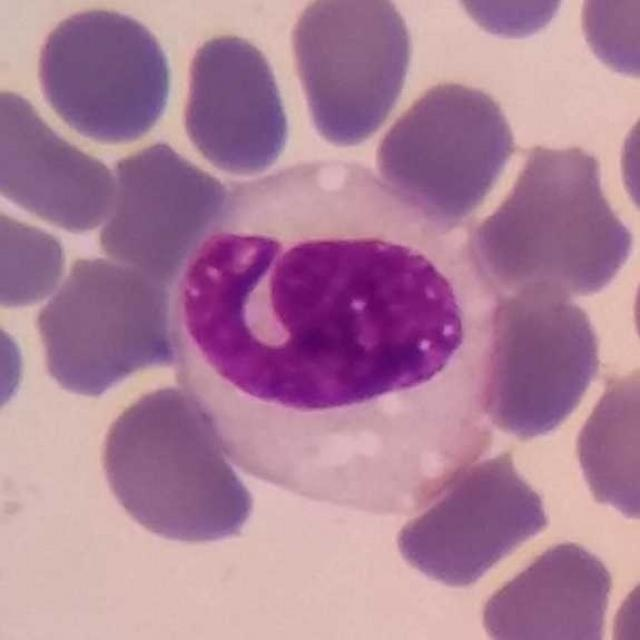Monocyte: (165, 160, 521, 517)
RBC: (92, 380, 263, 552), (465, 137, 639, 302), (388, 450, 556, 591), (369, 74, 521, 222), (470, 282, 608, 444), (29, 250, 176, 401), (30, 1, 180, 148), (283, 0, 418, 150), (91, 138, 233, 277), (0, 80, 122, 233), (175, 28, 297, 180), (473, 534, 620, 640), (569, 361, 640, 525), (0, 196, 72, 312), (444, 0, 576, 46), (573, 0, 640, 85), (0, 300, 32, 434), (612, 91, 640, 237), (604, 561, 640, 640), (625, 232, 640, 383)
